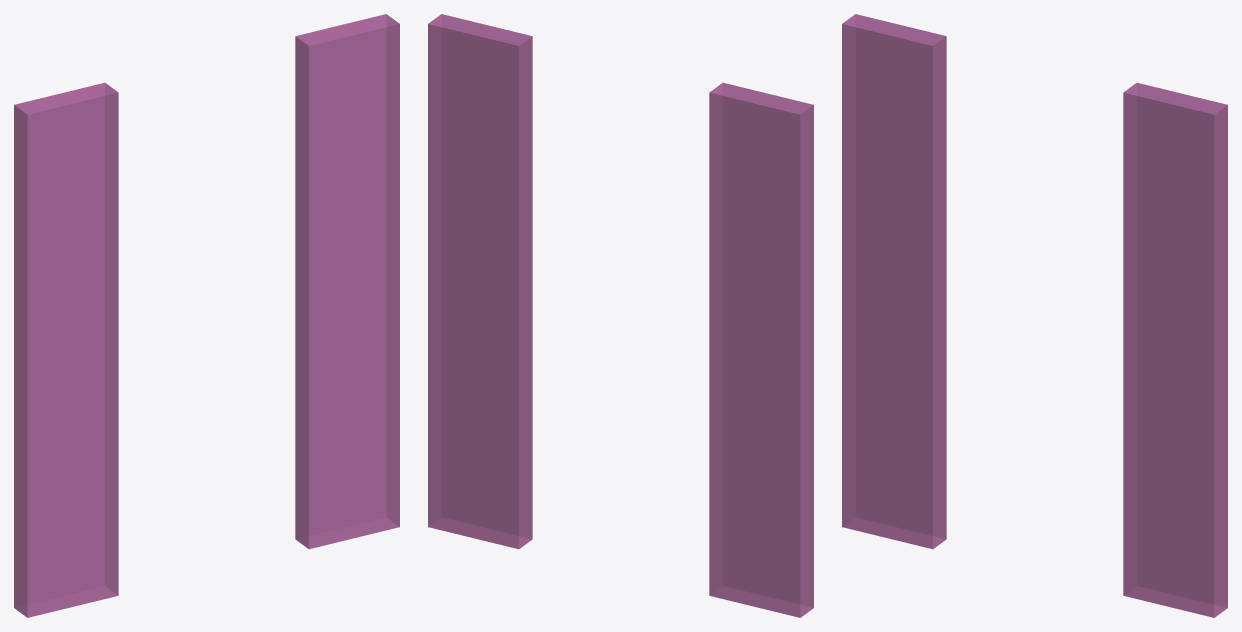
File: SM_Bld_Fence_Gate_Small_01_Collision.fbx
3 views of the same model, side by side, from view 1: azimuth 30°, elevation 25°; view 2: azimuth 150°, elevation 25°; view 3: azimuth 330°, elevation 25° (orthographic).
Parts seen in each view (by area): view 1: SM_Bld_Fence_Gate_Small_01_Collision; view 2: SM_Bld_Fence_Gate_Small_01_Collision; view 3: SM_Bld_Fence_Gate_Small_01_Collision.
Part boxes in pixels (x1,y1,x2,y2): SM_Bld_Fence_Gate_Small_01_Collision: [14, 14, 399, 617]; SM_Bld_Fence_Gate_Small_01_Collision: [428, 14, 813, 617]; SM_Bld_Fence_Gate_Small_01_Collision: [842, 14, 1227, 617].
Size of the model in its own units: 258 by 333 by 16.23.
